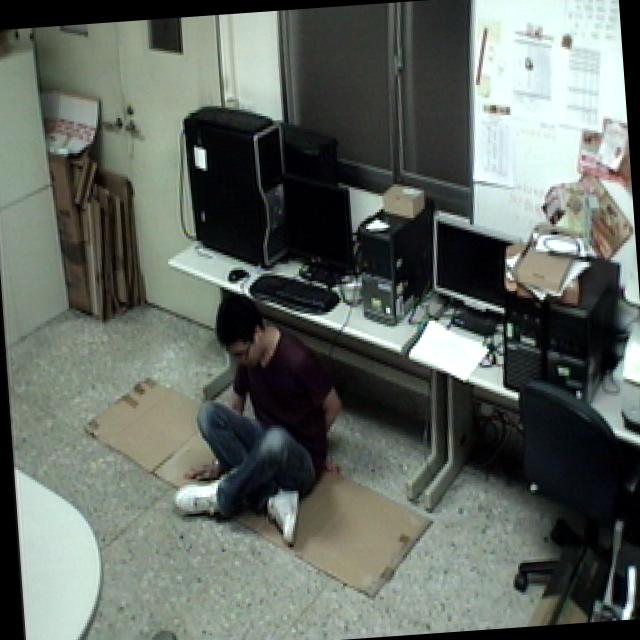sit: (154, 281, 357, 554)
